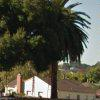Palm tree: (26, 4, 85, 100)
